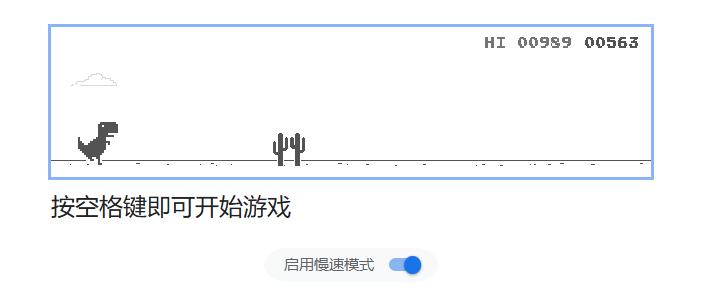cactus: (272, 132, 307, 167)
dino: (76, 120, 119, 165)
